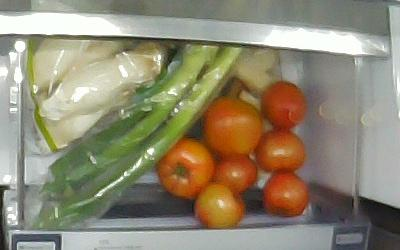tomato: (155, 138, 214, 199), (202, 97, 262, 156), (192, 182, 243, 226), (261, 81, 305, 130), (263, 169, 307, 216), (209, 152, 258, 194), (257, 130, 304, 170)
